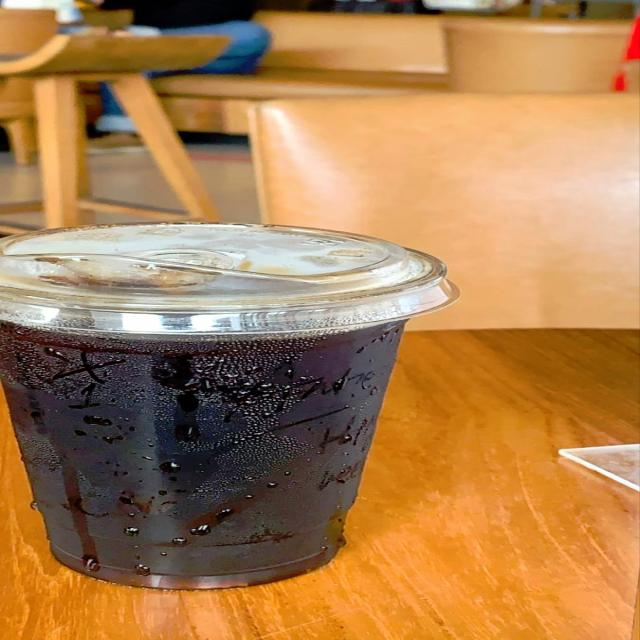drink: (0, 219, 460, 584)
